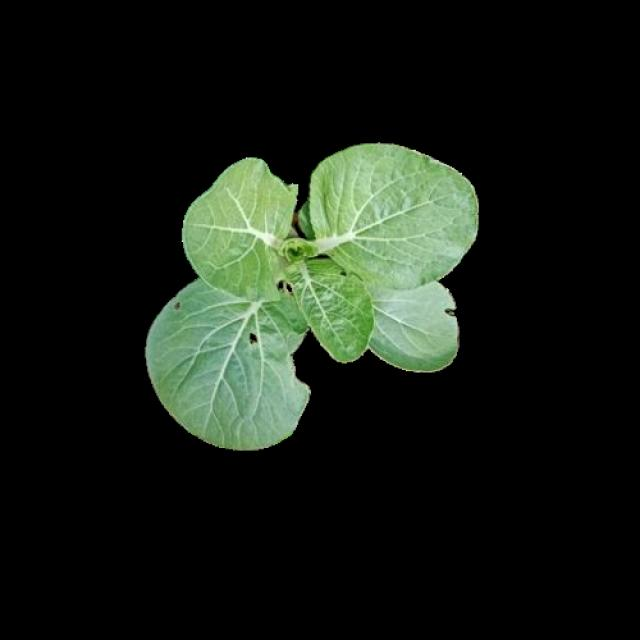not-mature: (148, 142, 482, 449)
unhealthy: (150, 291, 308, 448)
